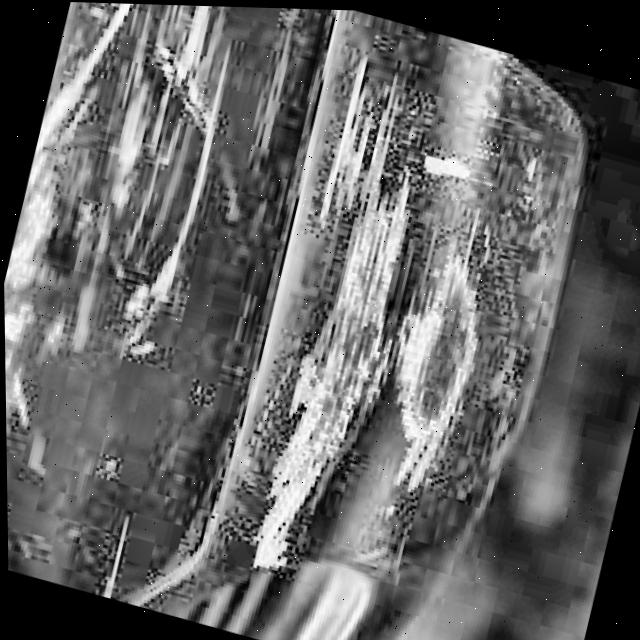bumper_scratch: (222, 49, 549, 614)
